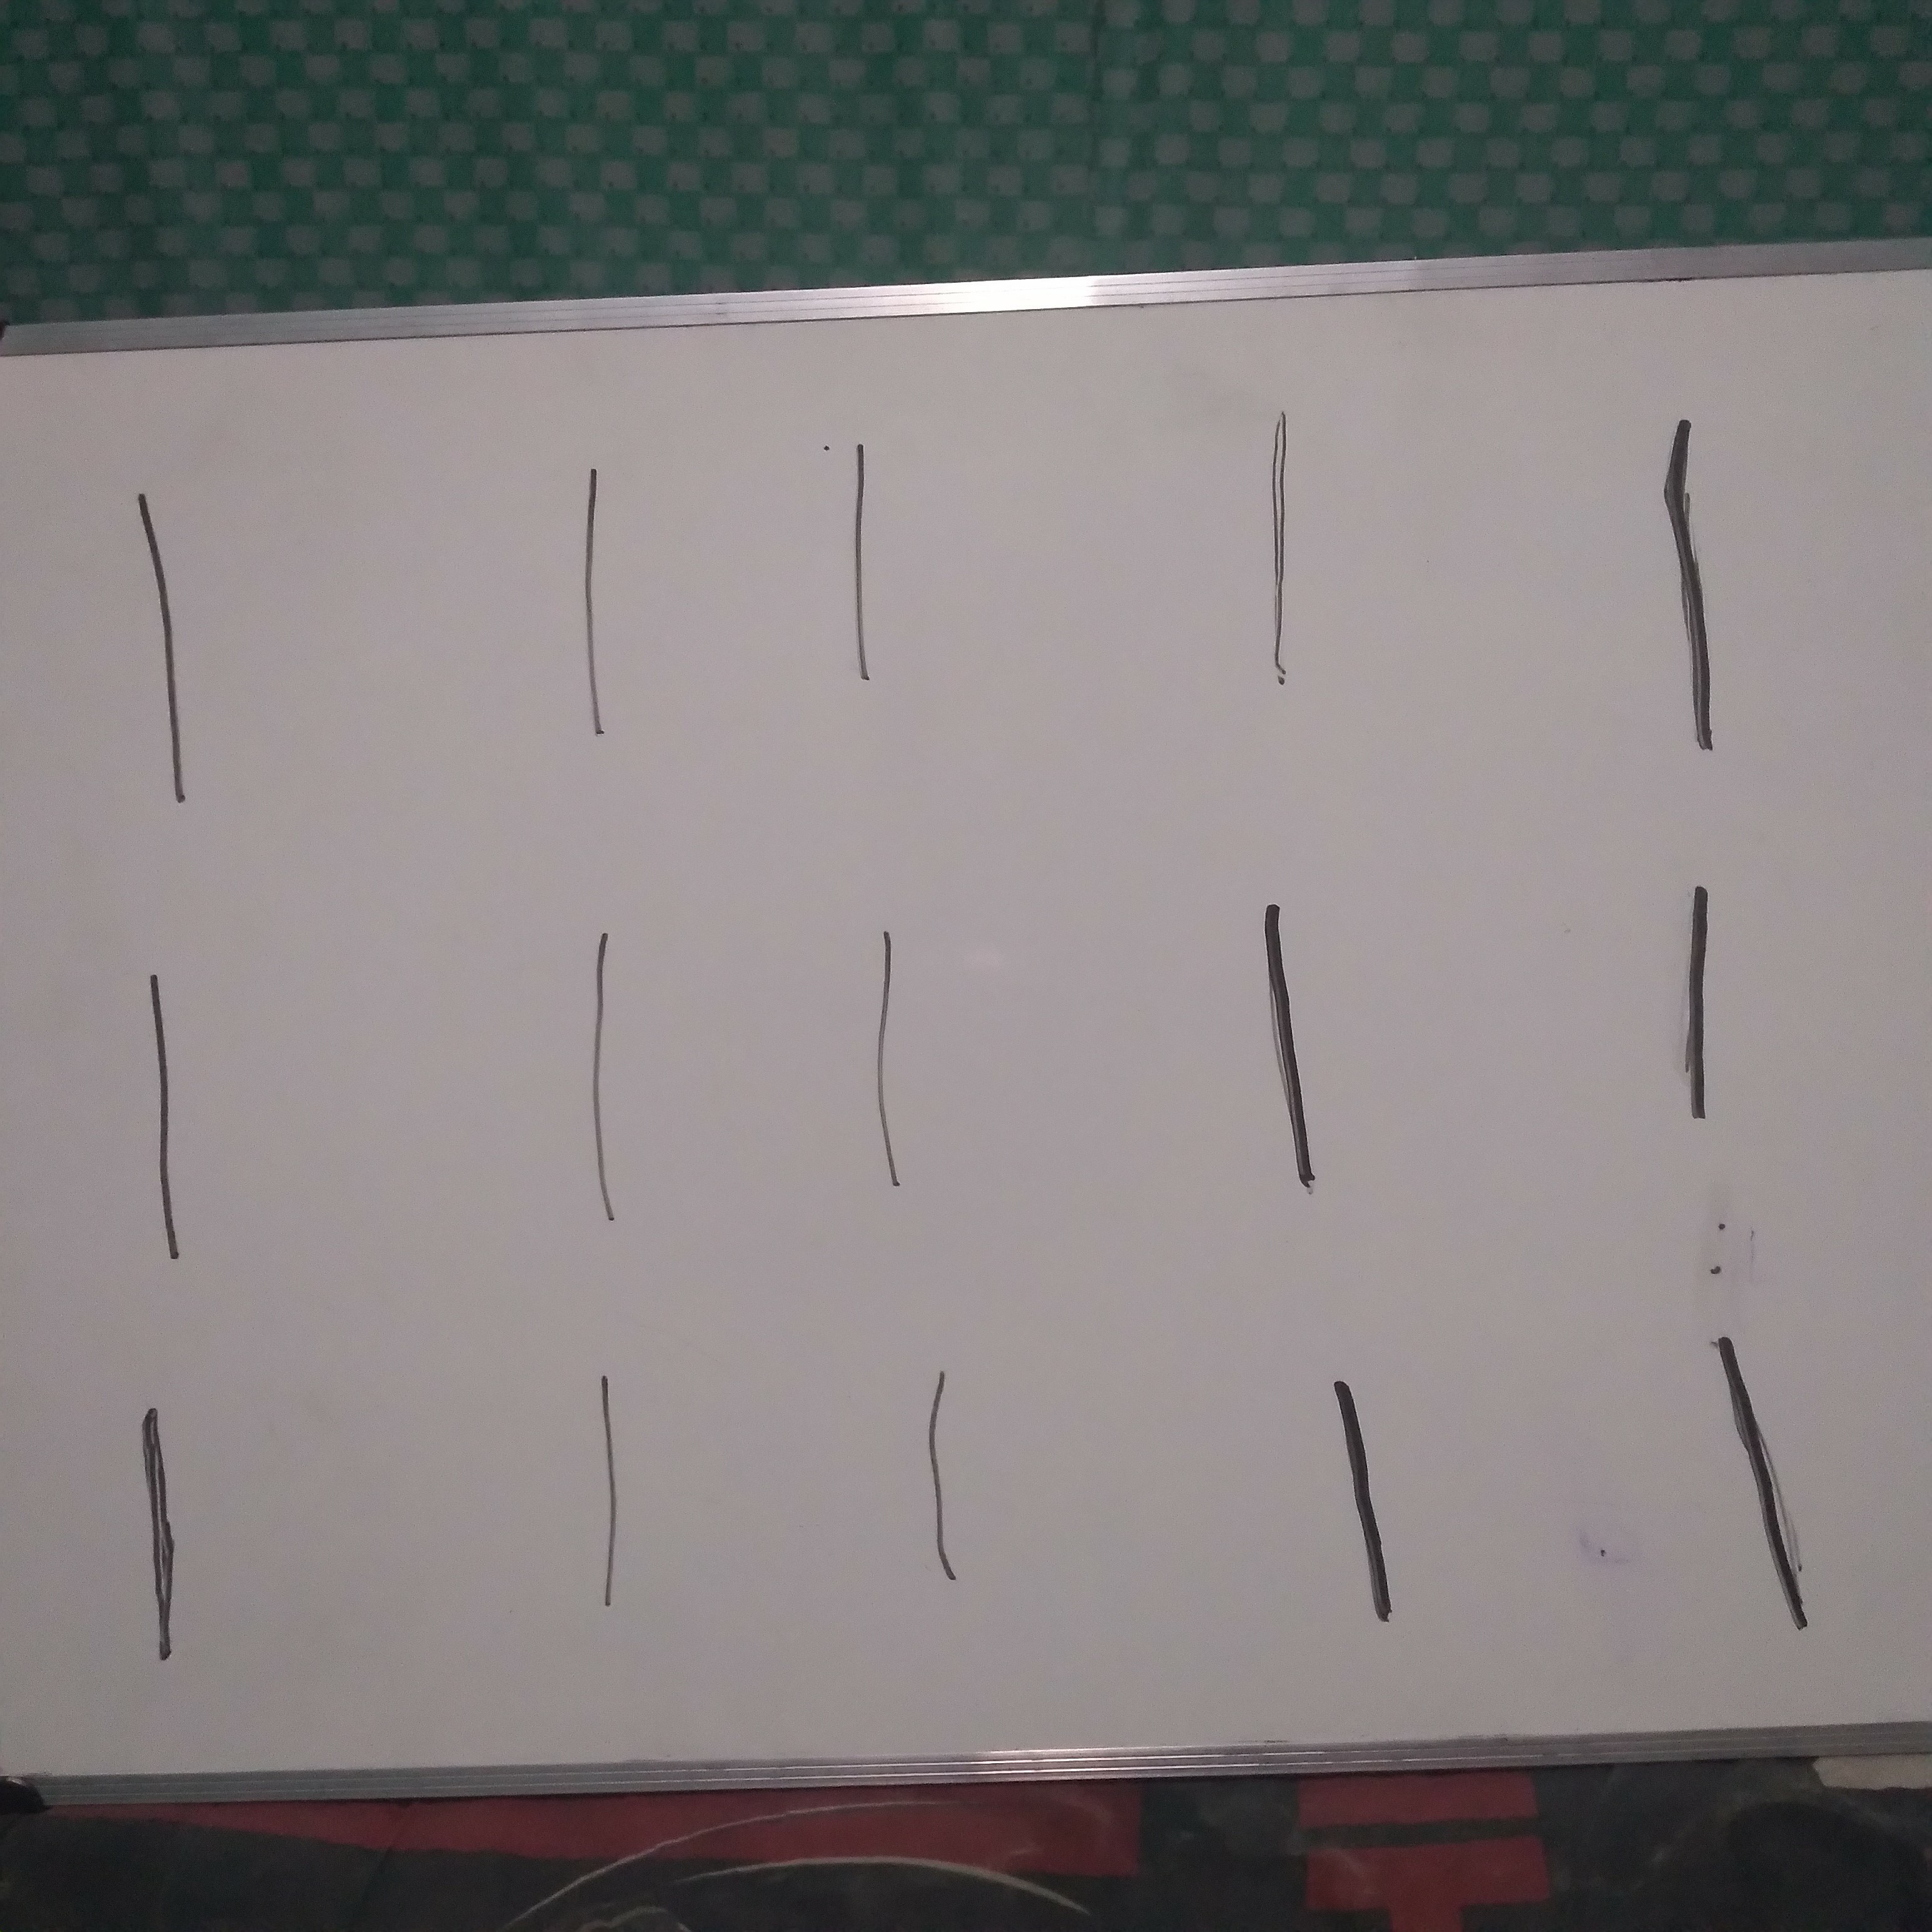num1: (1714, 1303, 1824, 1660), (123, 477, 210, 830), (128, 929, 215, 1283), (108, 1350, 195, 1704), (576, 1302, 663, 1655), (561, 897, 648, 1251), (541, 415, 628, 769), (830, 400, 917, 754), (833, 897, 920, 1251), (900, 1310, 987, 1664), (1254, 869, 1341, 1223), (1245, 382, 1332, 735), (1651, 415, 1738, 768), (1644, 827, 1731, 1181), (1316, 1323, 1403, 1676)
